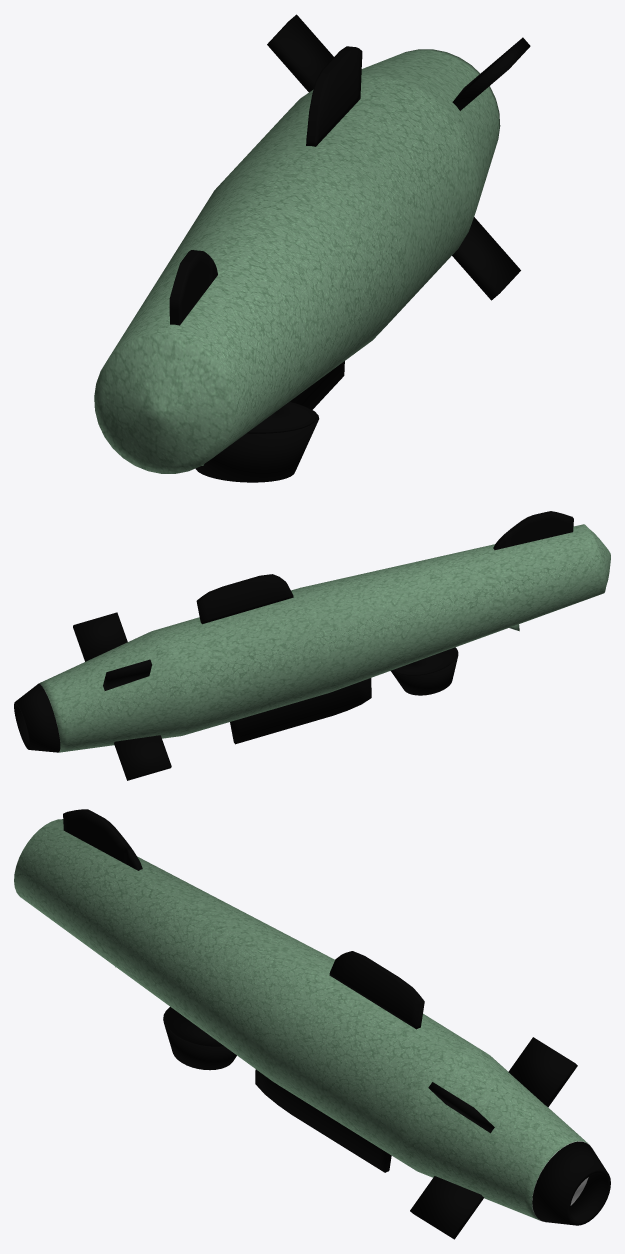
File: AUV.fbx
3 views of the same model, one above another, from view 1: azimuth 30°, elevation 25°; view 2: azimuth 150°, elevation 25°; view 3: azimuth 270°, elevation 25° (orthographic). The views are drawn at different scales.
Parts seen in each view (by area): view 1: TailFin_Cube; view 2: TailFin_Cube; view 3: TailFin_Cube.
Part boxes in pixels (x1,y1,x2,y2): TailFin_Cube: (94,14,530,482); TailFin_Cube: (14,511,610,780); TailFin_Cube: (14,809,610,1239).
Size of the model in its own units: 385 by 179 by 402.
